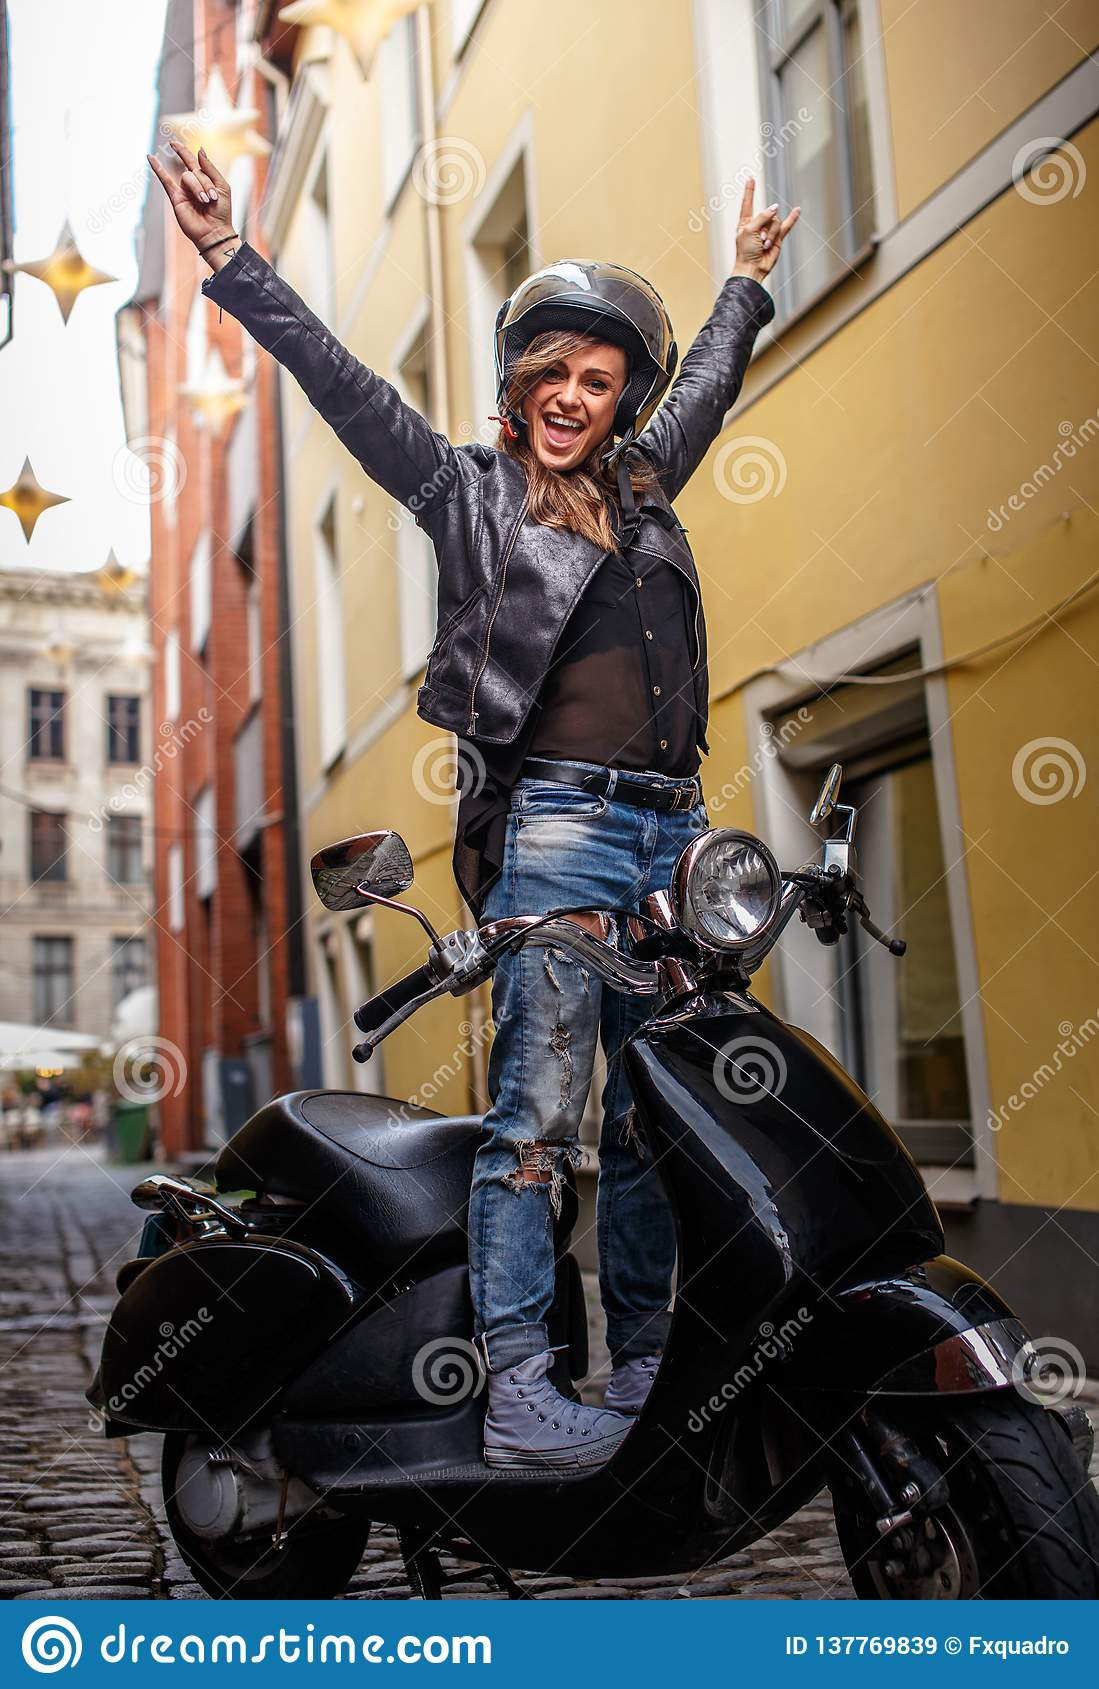helmet: (494, 259, 669, 412)
